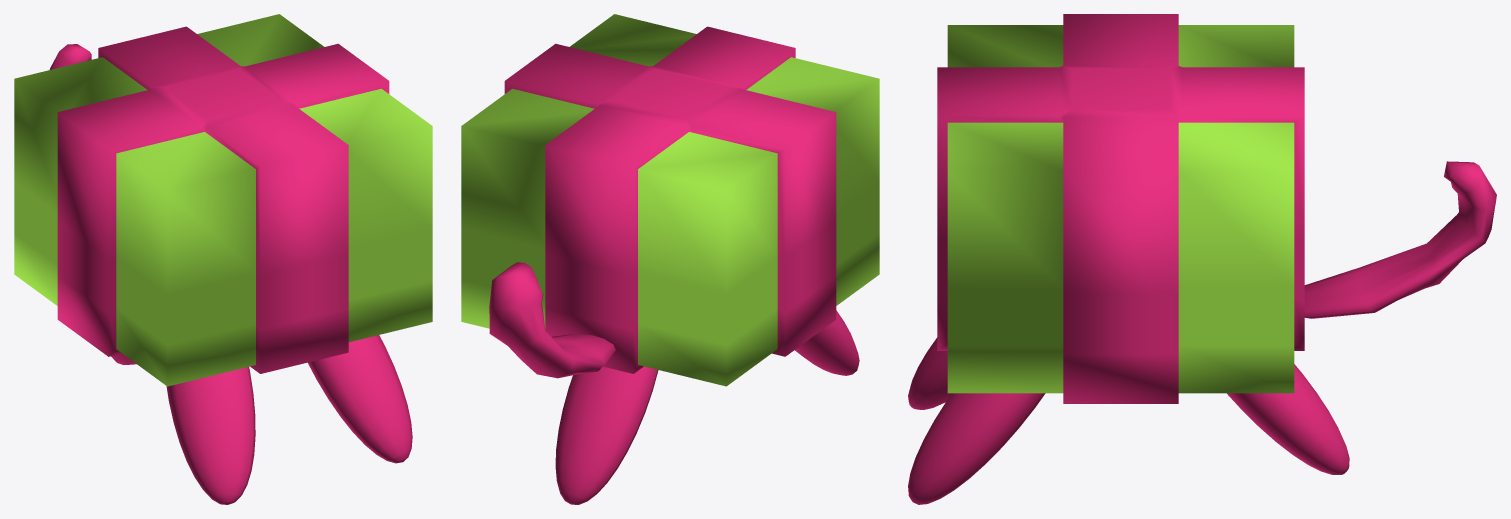
The model's file is Debris_Peasint.glb.
The picture shows the model from 3 angles, left to right: view 1: azimuth 30°, elevation 25°; view 2: azimuth 150°, elevation 25°; view 3: azimuth 270°, elevation 25°; orthographic projection. The views are drawn at different scales.
Visible parts, largest first — view 1: Peasint Body.001, Front Legs, Tail.001; view 2: Peasint Body.001, Front Legs.001, Tail.001, Front Legs; view 3: Peasint Body.001, Tail.001, Front Legs, Front Legs.001.
Boxes of the visible parts, box(x1,y1,x2,y2) form: Peasint Body.001: box(14, 14, 432, 386); Front Legs: box(166, 335, 412, 504); Tail.001: box(49, 44, 91, 69); Peasint Body.001: box(461, 14, 879, 386); Front Legs.001: box(555, 366, 658, 504); Tail.001: box(489, 262, 615, 378); Front Legs: box(795, 310, 859, 375); Peasint Body.001: box(937, 14, 1304, 403); Tail.001: box(1304, 161, 1496, 318); Front Legs: box(908, 337, 1045, 504); Front Legs.001: box(1227, 364, 1349, 474).
Bounding box in the file's own units: 1.51 × 1.75 × 2.43.
